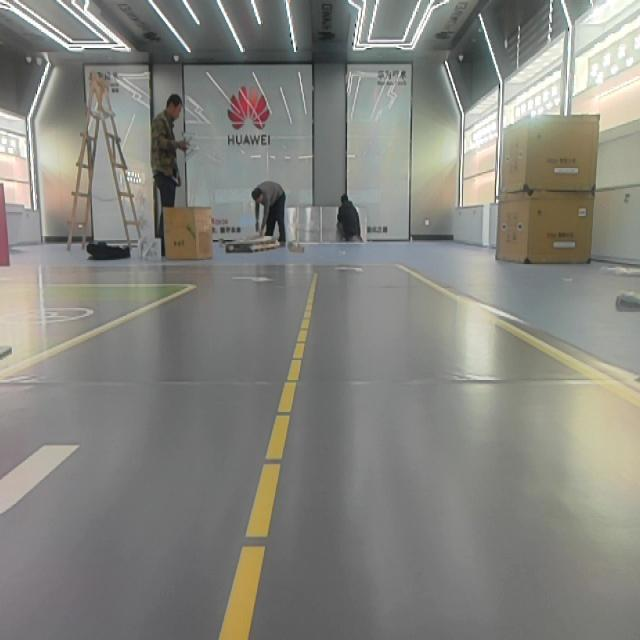left_lane: (215, 278, 317, 639)
right_lane: (404, 259, 640, 410), (0, 286, 193, 386)
